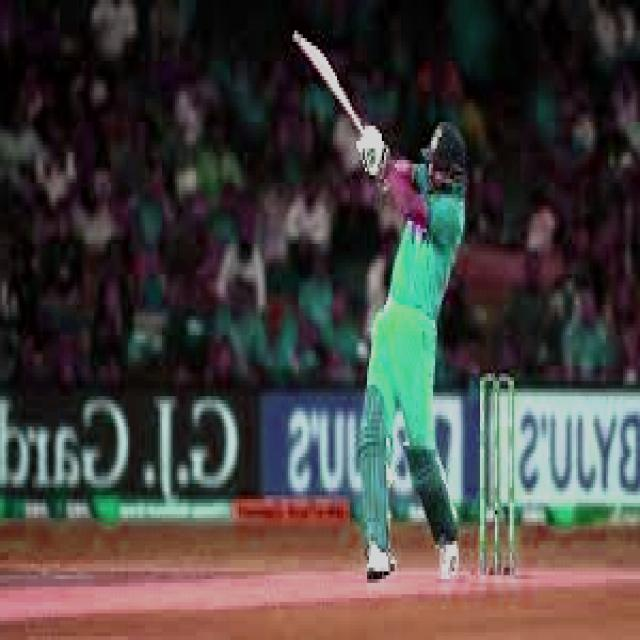toe: (292, 27, 314, 60)
